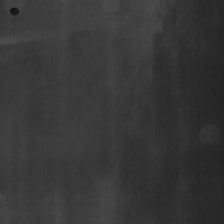punching_hole: (8, 7, 19, 15)
